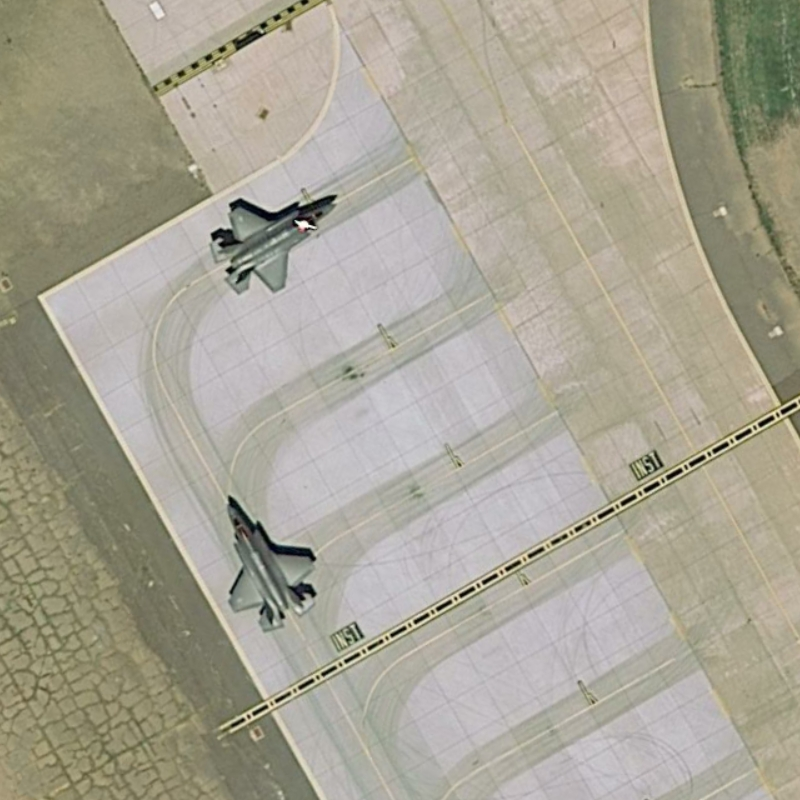A15: (216, 491, 325, 639), (203, 187, 342, 299)
